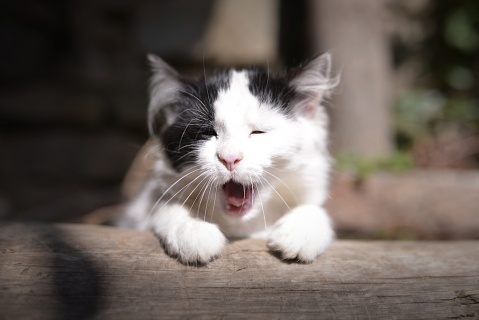Cat: (115, 47, 360, 268)
